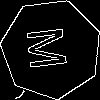M: (26, 24, 77, 71)
